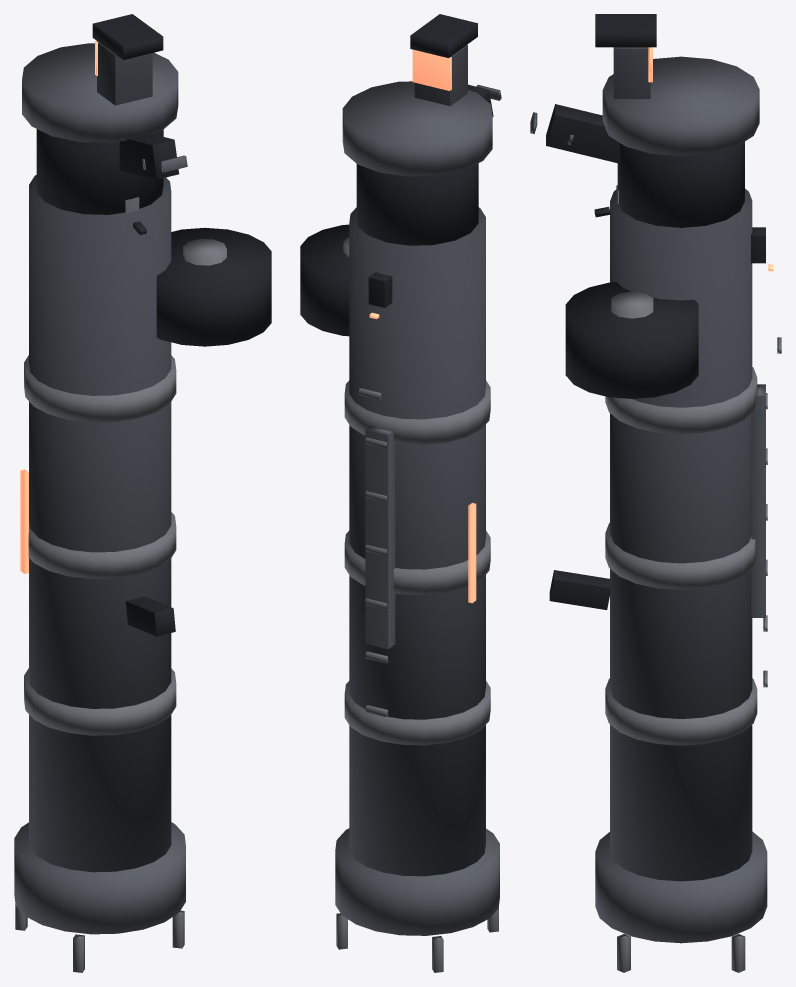
The model's file is weapon_launcher.glb.
3 views of the same model, side by side, from view 1: azimuth 30°, elevation 25°; view 2: azimuth 150°, elevation 25°; view 3: azimuth 270°, elevation 25° (orthographic). The views are drawn at different scales.
Visible parts, largest first — view 1: LaunchTube, FrontRing, DrumMag, RearRing, RearCone, HeatBand_0, HeatBand_2, HeatBand_1, ShoulderBrace, BracePad, PistolGrip.003, FrontGrip (+2 smaller); view 2: LaunchTube, RearRing, FrontRing, RearCone, CarryRail, DrumMag, HeatBand_2, HeatBand_0, HeatBand_1, BracePad, ShoulderBrace, BraceGlow (+2 smaller); view 3: LaunchTube, DrumMag, RearRing, FrontRing, RearCone, HeatBand_2, HeatBand_1, HeatBand_0, CarryRail, PistolGrip.003, BracePad, FrontGrip (+2 smaller).
Boxes of the visible parts, x1,y1,x2,y2 form: LaunchTube: (29, 175, 171, 872); FrontRing: (14, 822, 185, 934); DrumMag: (156, 227, 271, 346); RearRing: (22, 43, 178, 142); RearCone: (36, 129, 163, 214); HeatBand_0: (24, 355, 176, 422); HeatBand_2: (24, 668, 176, 735); HeatBand_1: (28, 512, 176, 578); ShoulderBrace: (97, 41, 152, 105); BracePad: (92, 14, 163, 59); PistolGrip.003: (119, 133, 179, 179); FrontGrip: (125, 596, 175, 636); LaunchTube: (349, 207, 485, 876); RearRing: (342, 81, 492, 176); FrontRing: (335, 828, 499, 935); RearCone: (356, 163, 478, 245); CarryRail: (365, 425, 395, 649); DrumMag: (300, 224, 349, 336); HeatBand_2: (344, 681, 490, 745); HeatBand_0: (344, 380, 490, 444); HeatBand_1: (344, 530, 490, 594); BracePad: (410, 14, 477, 57); ShoulderBrace: (414, 45, 467, 105); BraceGlow: (412, 49, 451, 90); LaunchTube: (610, 188, 752, 881); DrumMag: (565, 282, 698, 398); RearRing: (602, 56, 759, 156); FrontRing: (595, 831, 767, 943); RearCone: (617, 141, 744, 227); HeatBand_2: (605, 678, 757, 745); HeatBand_1: (605, 523, 755, 589); HeatBand_0: (605, 367, 757, 434); CarryRail: (751, 384, 765, 617); PistolGrip.003: (546, 104, 619, 163); BracePad: (595, 14, 656, 47); FrontGrip: (549, 570, 611, 609).
Size of the model in its own units: 0.2 by 0.8295 by 0.2048.
